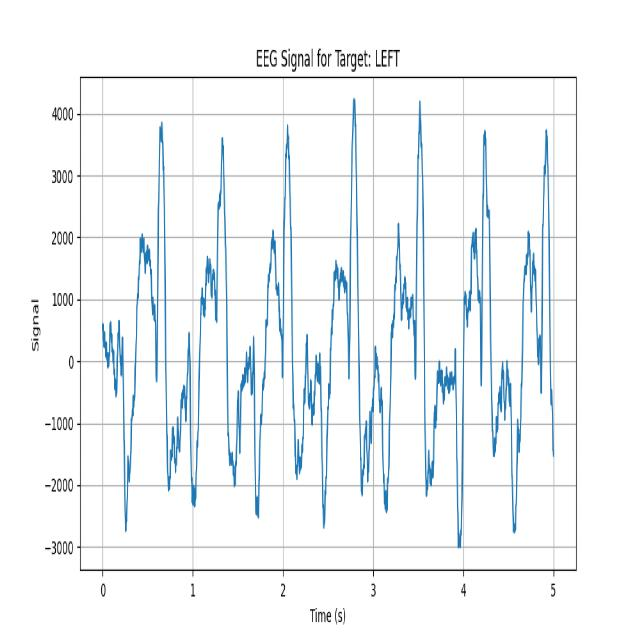LEFT: (106, 112, 188, 538), (399, 89, 473, 559), (472, 89, 543, 552), (186, 110, 261, 543), (261, 111, 333, 541), (333, 95, 400, 546)
